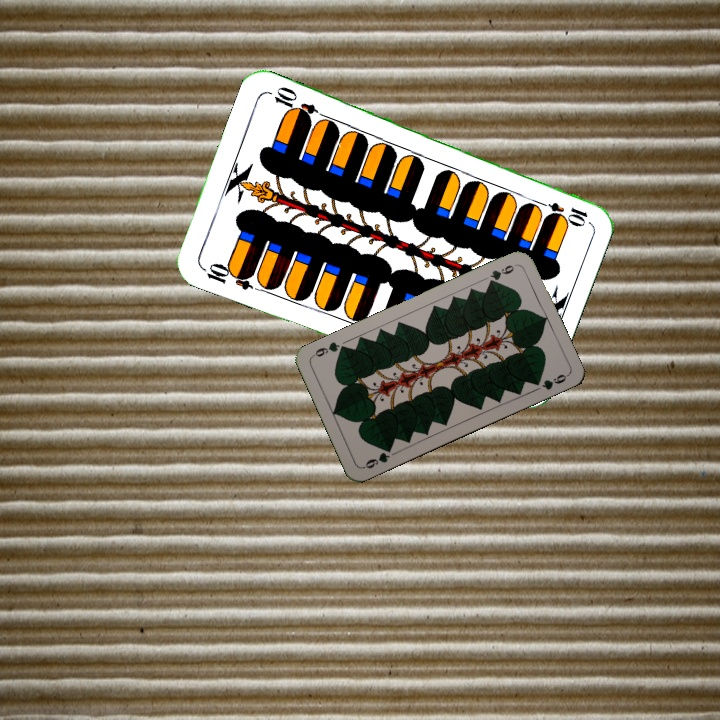E10: (197, 258, 256, 293), (532, 196, 591, 227)
G9: (359, 443, 395, 471), (484, 260, 519, 287)
